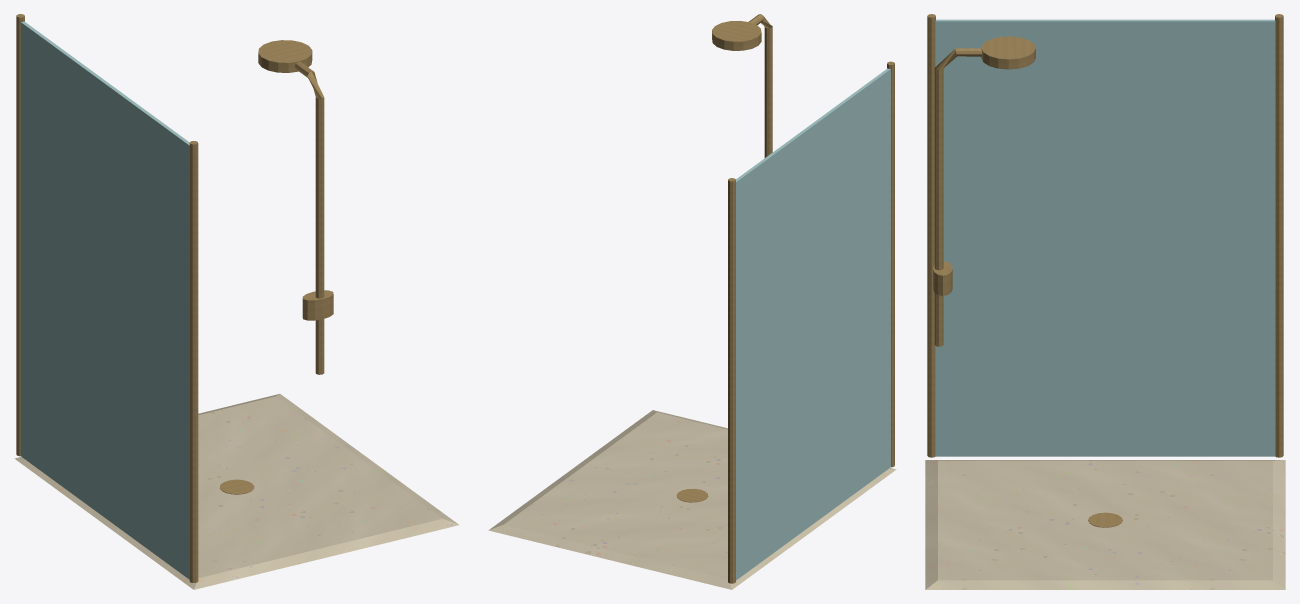
File: AST-SAN-003.glb
3 views of the same model, side by side, from view 1: azimuth 30°, elevation 25°; view 2: azimuth 150°, elevation 25°; view 3: azimuth 270°, elevation 25° (orthographic). The views are drawn at different scales.
Parts seen in each view (by area): view 1: AST-SAN-003_fixed_bath_glass, AST-SAN-003_fixed_warm_stone, AST-SAN-003_fixed_champagne_metal; view 2: AST-SAN-003_fixed_bath_glass, AST-SAN-003_fixed_warm_stone, AST-SAN-003_fixed_champagne_metal; view 3: AST-SAN-003_fixed_bath_glass, AST-SAN-003_fixed_warm_stone, AST-SAN-003_fixed_champagne_metal.
Part boxes in pixels (x1,y1,x2,y2): AST-SAN-003_fixed_bath_glass: (20, 21, 189, 579); AST-SAN-003_fixed_warm_stone: (14, 394, 459, 589); AST-SAN-003_fixed_champagne_metal: (16, 14, 333, 582); AST-SAN-003_fixed_bath_glass: (736, 68, 890, 580); AST-SAN-003_fixed_warm_stone: (488, 410, 896, 589); AST-SAN-003_fixed_champagne_metal: (676, 14, 894, 583); AST-SAN-003_fixed_bath_glass: (935, 19, 1275, 456); AST-SAN-003_fixed_warm_stone: (925, 460, 1285, 589); AST-SAN-003_fixed_champagne_metal: (927, 14, 1283, 527).
Size of the model in its own units: 1.24 by 2.12 by 1.45.
Materials: 3 (2 with a texture image).
